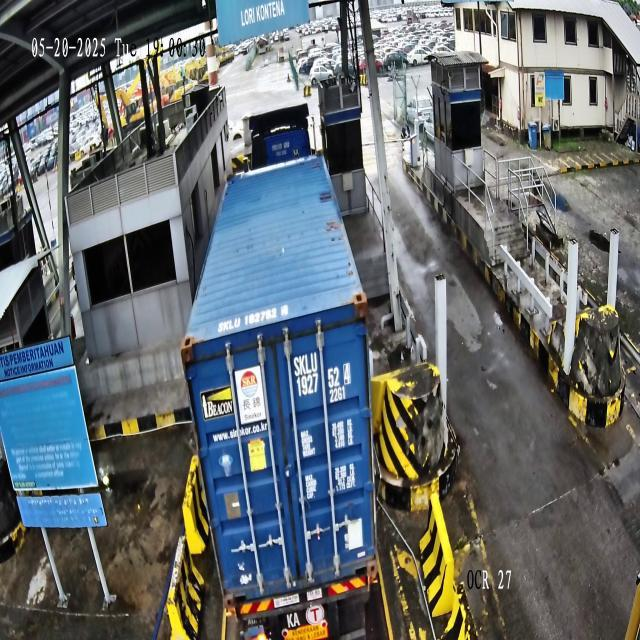ISO: (328, 386, 346, 406)
container_number: (292, 351, 354, 397)
